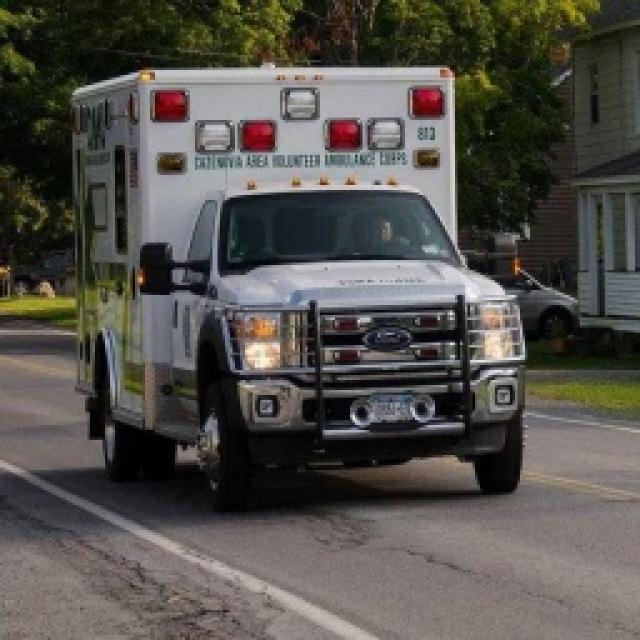emergency-vehicle: (0, 34, 636, 554)
